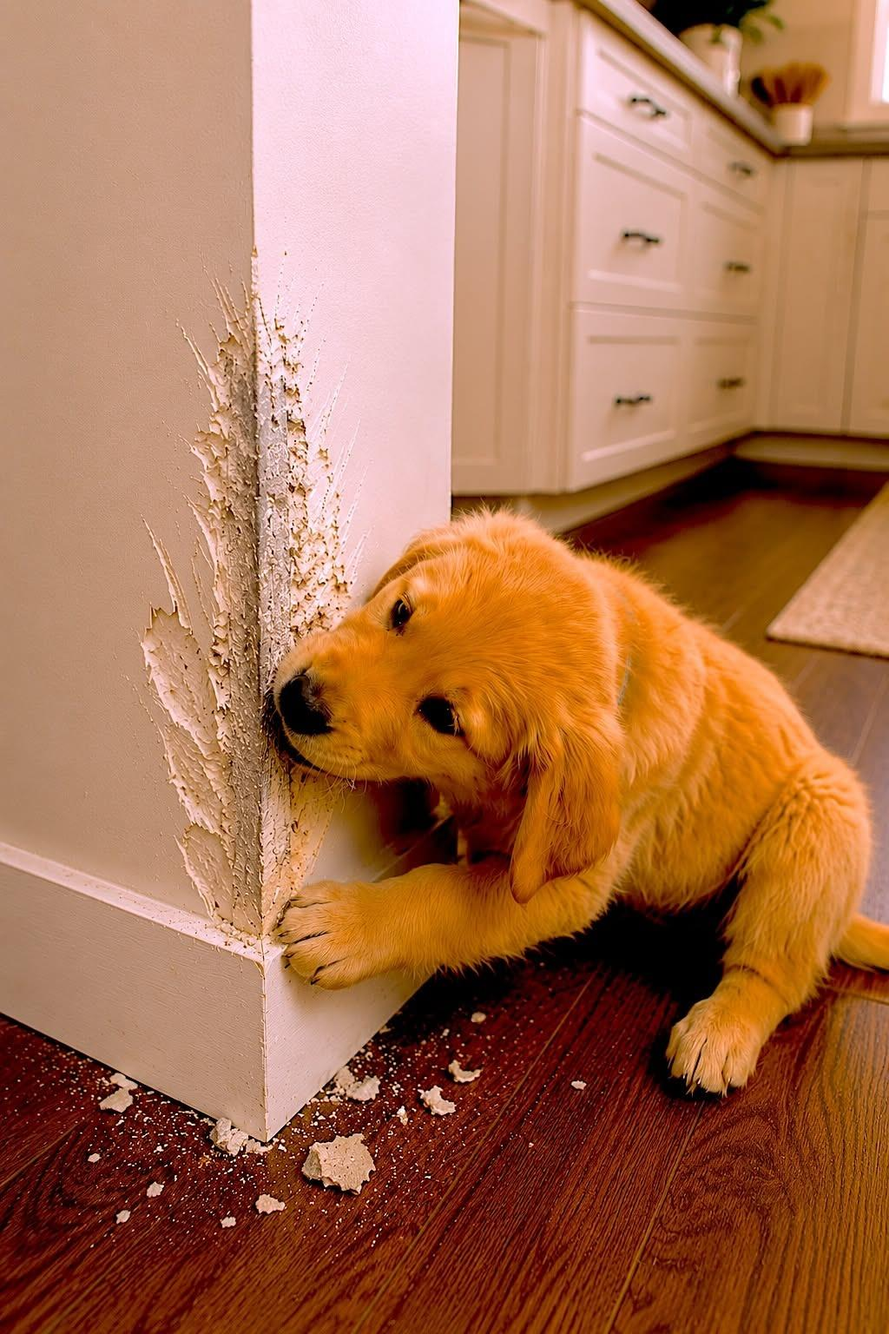puppy-dog: (264, 510, 889, 1101)
